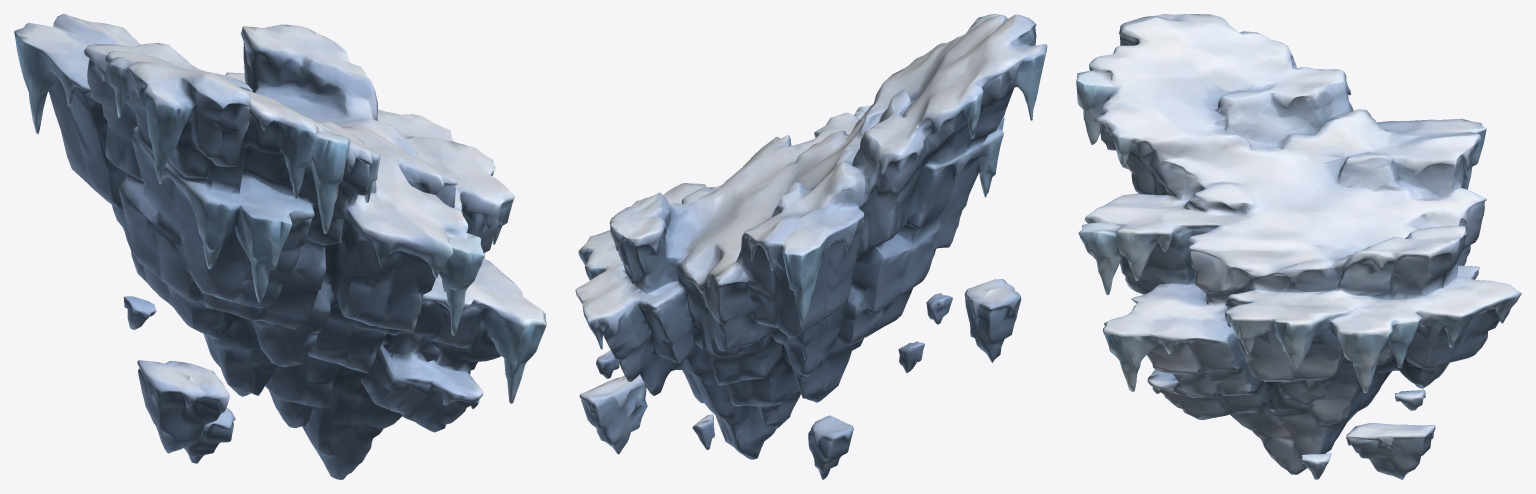
File: R2_Island_Crag.fbx
3 views of the same model, side by side, from view 1: azimuth 30°, elevation 25°; view 2: azimuth 150°, elevation 25°; view 3: azimuth 270°, elevation 25° (orthographic). The views are drawn at different scales.
Parts seen in each view (by area): view 1: R2_Island_Crag; view 2: R2_Island_Crag; view 3: R2_Island_Crag.
Boxes of the visible parts, bbox=[...] form: R2_Island_Crag: bbox=[14, 14, 546, 479]; R2_Island_Crag: bbox=[575, 14, 1047, 479]; R2_Island_Crag: bbox=[1076, 14, 1521, 479].
Size of the model in its own units: 1200 by 1400 by 1500.
Materials: 1 (1 with a texture image).
